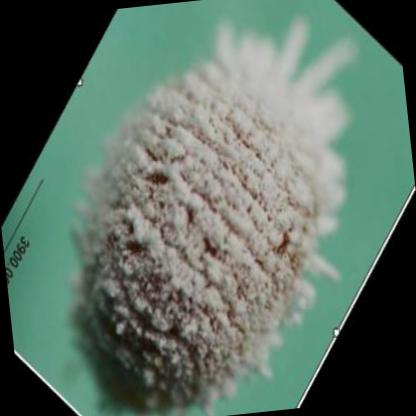mealy bug: (71, 18, 354, 416)
